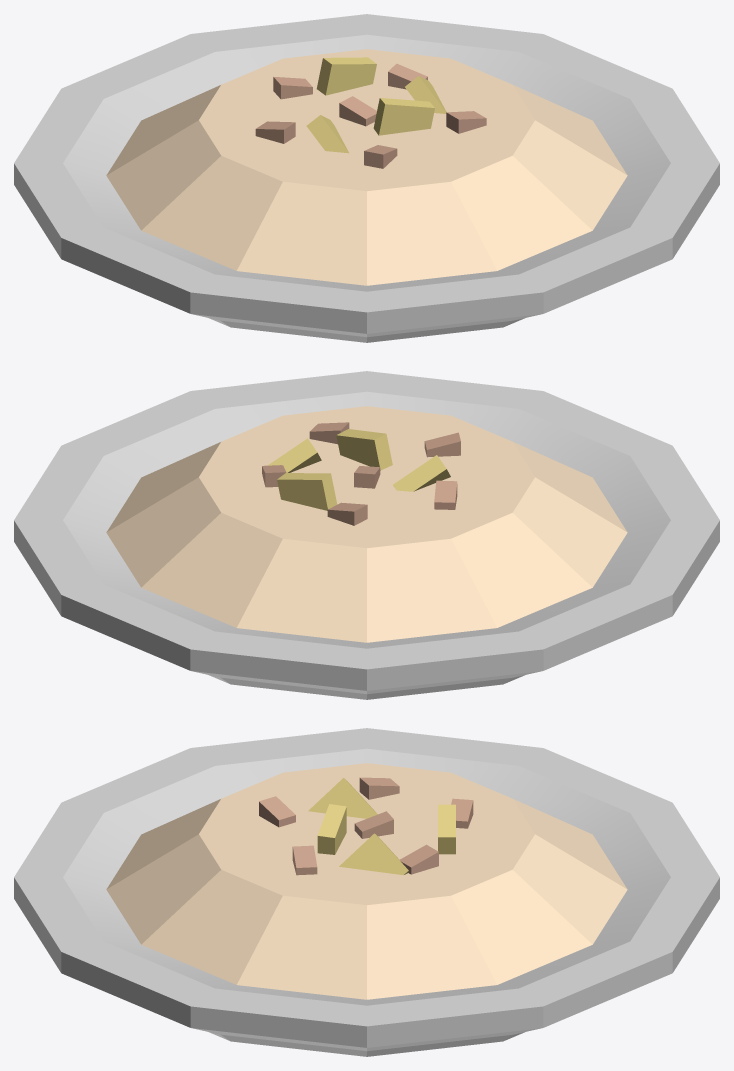
File: asset.gltf
3 views of the same model, one above another, from view 1: azimuth 30°, elevation 25°; view 2: azimuth 150°, elevation 25°; view 3: azimuth 270°, elevation 25° (orthographic).
Parts seen in each view (by area): view 1: plateSauerkraut, Cube__1_, Cube, Cube__2_, Cube__3_; view 2: plateSauerkraut, Cube, Cube__1_, Cube__2_, Cube__3_; view 3: plateSauerkraut, Cube__3_, Cube__2_, Cube__1_, Cube.
Boxes of the visible parts, x1,y1,x2,y2 form: plateSauerkraut: [14, 14, 719, 342]; Cube__1_: [373, 98, 434, 135]; Cube: [316, 57, 376, 95]; Cube__2_: [306, 115, 348, 153]; Cube__3_: [405, 76, 446, 113]; plateSauerkraut: [14, 371, 719, 699]; Cube: [277, 473, 337, 510]; Cube__1_: [336, 429, 392, 470]; Cube__2_: [393, 455, 450, 491]; Cube__3_: [268, 438, 321, 472]; plateSauerkraut: [14, 728, 719, 1056]; Cube__3_: [339, 833, 408, 875]; Cube__2_: [308, 778, 377, 818]; Cube__1_: [317, 804, 346, 854]; Cube: [438, 804, 455, 854].
Size of the model in its own units: 0.8918 by 0.1916 by 0.8918.
